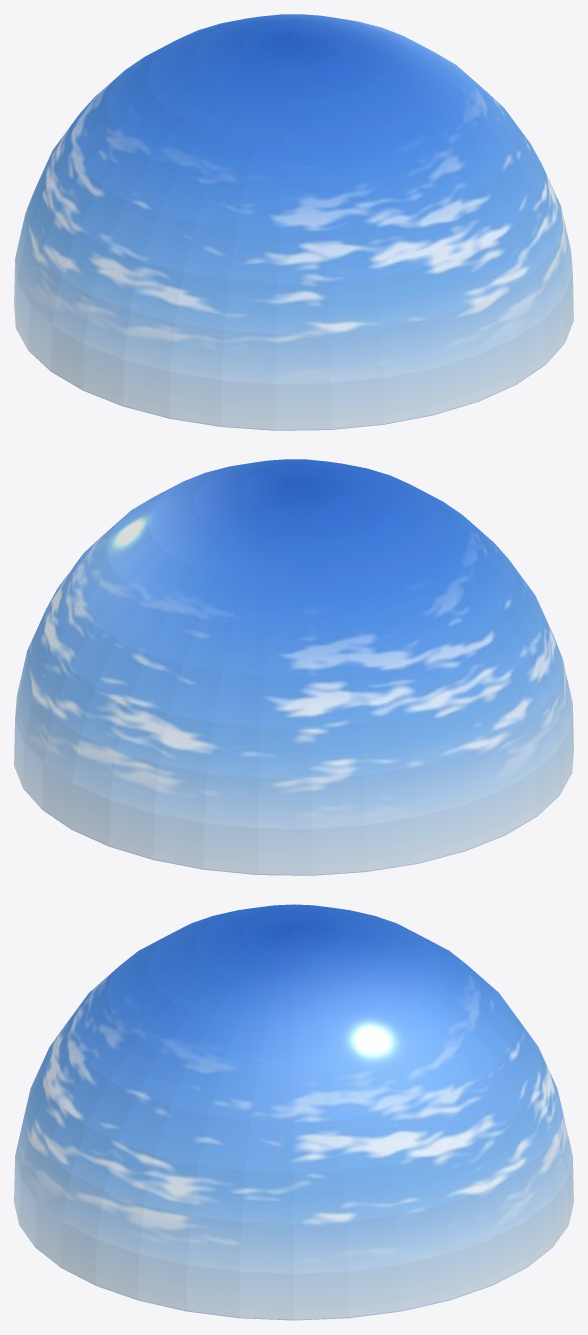
File: lugar-napoles-ciudad.glb
The picture shows the model from 3 angles, top to bottom: view 1: azimuth 30°, elevation 25°; view 2: azimuth 150°, elevation 25°; view 3: azimuth 270°, elevation 25°; orthographic projection.
Visible parts, largest first — view 1: planoC; view 2: planoC; view 3: planoC.
Boxes of the visible parts, x1=… form: planoC: x1=14, y1=14, x2=573, y2=430; planoC: x1=14, y1=459, x2=573, y2=875; planoC: x1=14, y1=904, x2=573, y2=1320.
Size of the model in its own units: 6384 by 3423 by 6384.
Materials: 43 (25 with a texture image).
